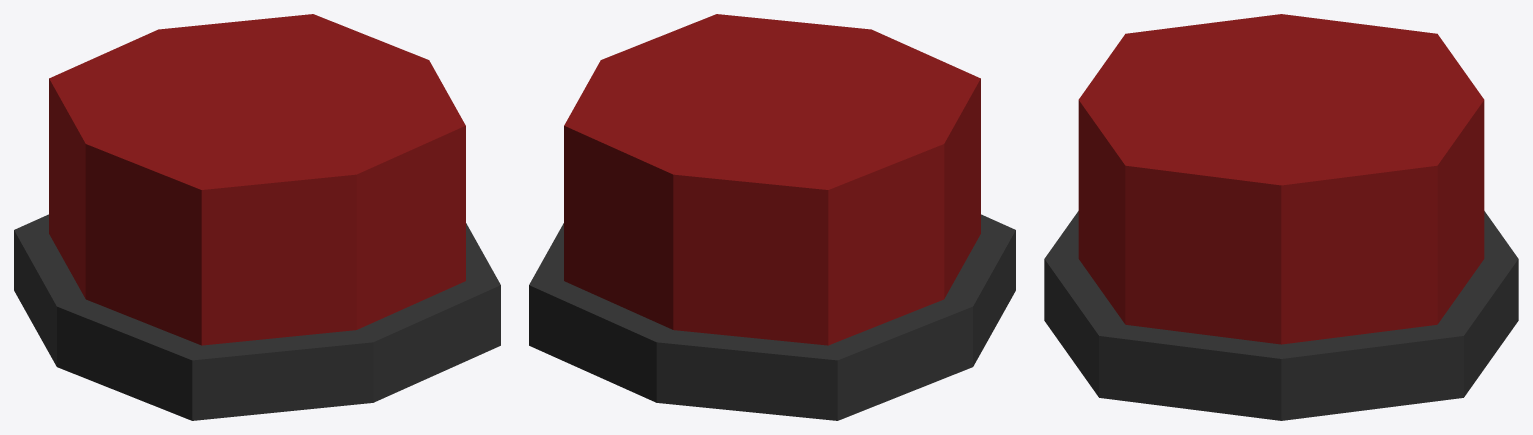
The model's file is Ventlight.gltf.
3 views of the same model, side by side, from view 1: azimuth 30°, elevation 25°; view 2: azimuth 150°, elevation 25°; view 3: azimuth 270°, elevation 25° (orthographic). The views are drawn at different scales.
Parts seen in each view (by area): view 1: cuboid (×2); view 2: cuboid (×2); view 3: cuboid (×2).
Boxes of the visible parts, x1,y1,x2,y2 form: cuboid (×2): (14,14,500,420); cuboid (×2): (529,14,1015,420); cuboid (×2): (1044,14,1518,420).
Bounding box in the file's own units: 1.3 × 0.6688 × 1.3.
Materials: 1 (1 with a texture image).
